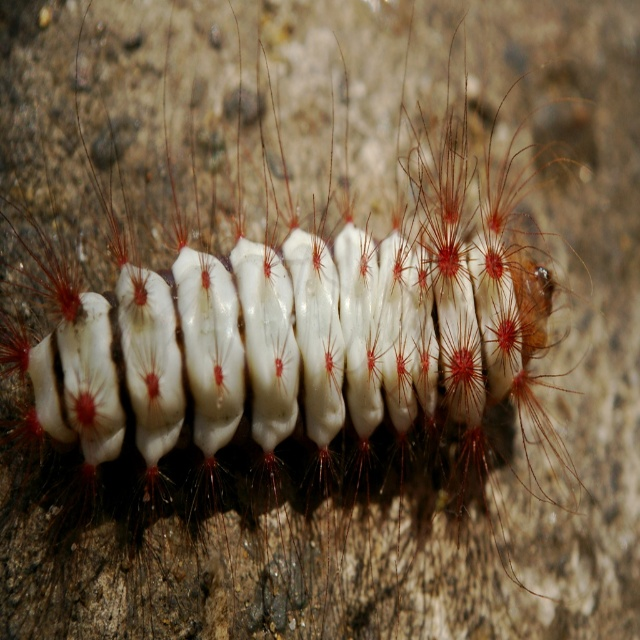Caterpillar: (0, 0, 607, 640)
